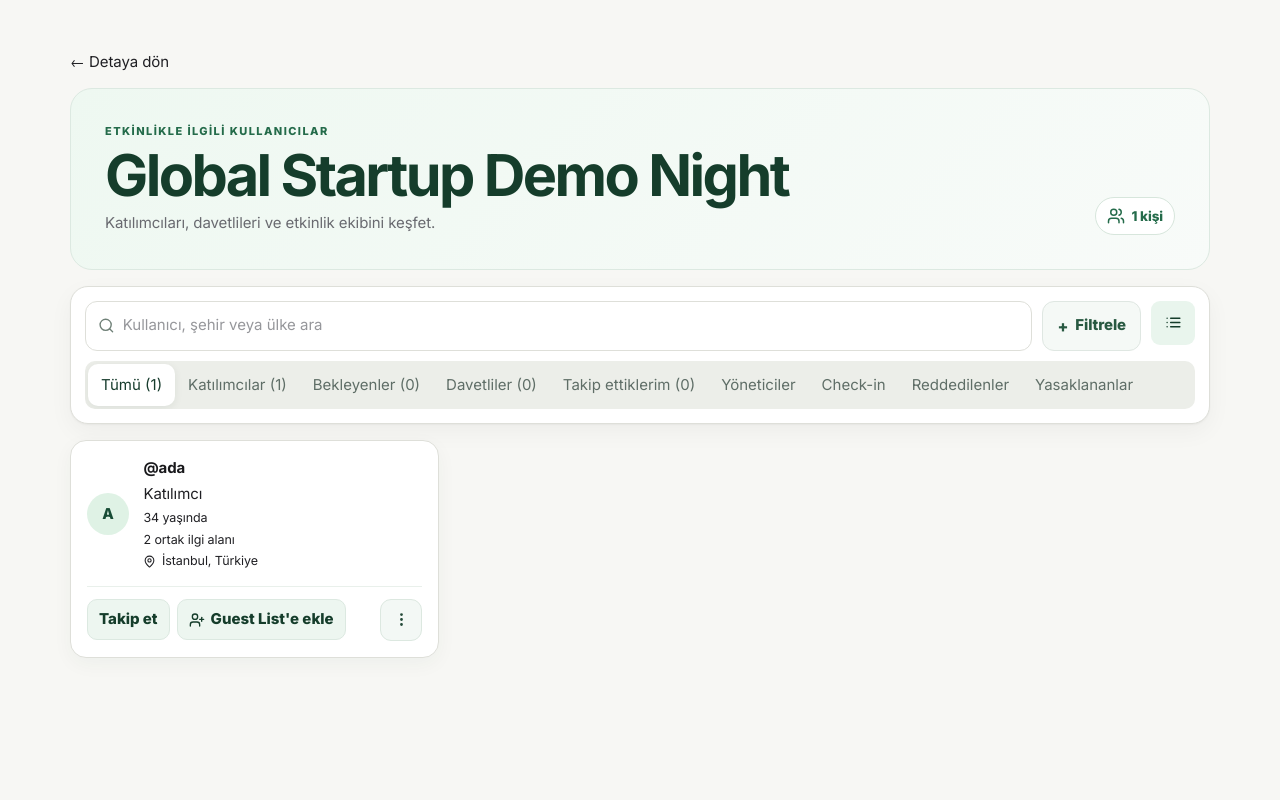
it: topluluk ve ilgili kullanıcı gereksinimleri › etkinlik yöneticisine kullanıcı kartında sahiplik, organizatörlük ve yasaklama aksiyonlarını verir
Expected: the heading "Global Startup Demo Night" is shown, [105, 145, 788, 206]
Expected: the text "2 ortak ilgi alanı" is shown, [143, 532, 235, 546]
Click the heading named "Kullanıcı aksiyonları". click: (401, 620)
box: [380, 599, 422, 641]
(page scrolled)
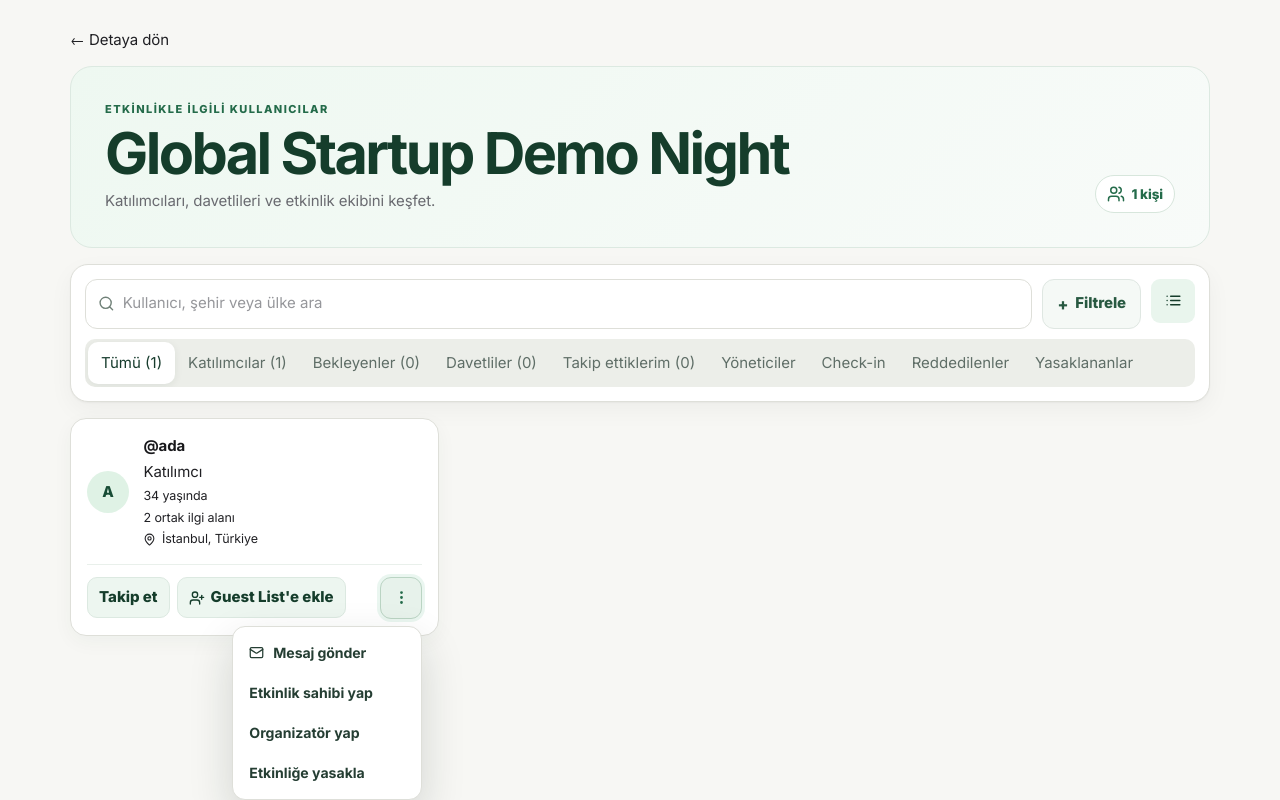
Now the button "Etkinlik sahibi yap" is shown, box [239, 673, 415, 713]
Now the button "Organizatör yap" is shown, box [239, 713, 415, 753]
Now the button "Etkinliğe yasakla" is shown, box [239, 753, 415, 793]
